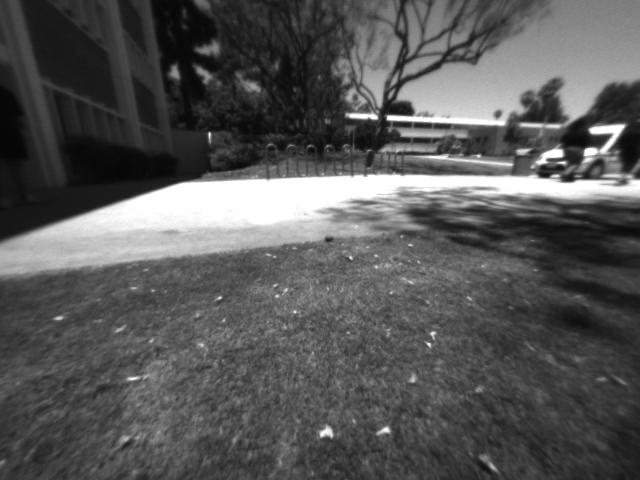dogtoy: (319, 228, 344, 248)
